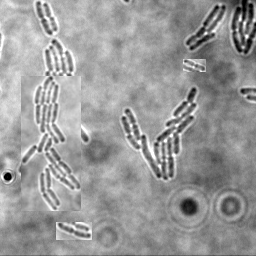Dividing: (34, 1, 52, 37), (56, 222, 92, 240), (41, 3, 57, 33), (47, 140, 59, 169), (183, 59, 206, 72)
Microcolony: (21, 76, 81, 211), (120, 87, 197, 181), (184, 5, 226, 52), (230, 1, 255, 56)
